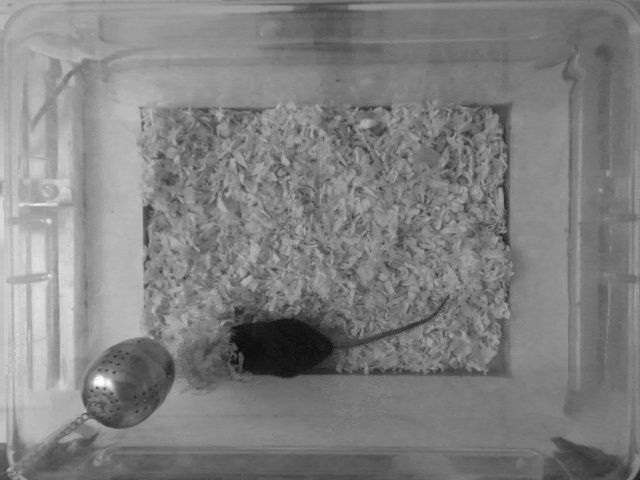mice: (196, 287, 456, 382)
